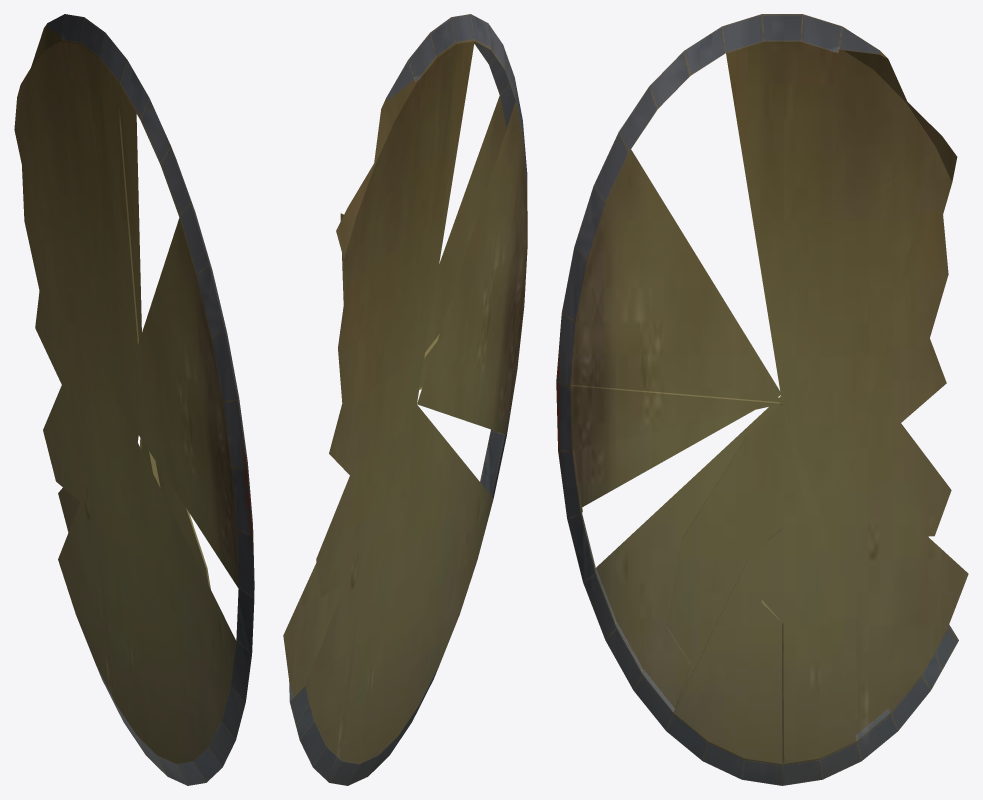
Rendered from mirror.fbx.
3 renders of one model, left to right at view 1: azimuth 30°, elevation 25°; view 2: azimuth 150°, elevation 25°; view 3: azimuth 270°, elevation 25°, orthographic. The views are drawn at different scales.
Visible parts, largest first — view 1: pCylinder1; view 2: pCylinder1; view 3: pCylinder1.
Boxes of the visible parts, <box> form: pCylinder1: <box>14,14,254,785</box>; pCylinder1: <box>283,14,527,785</box>; pCylinder1: <box>556,14,968,785</box>.
Size of the model in its own units: 2.37 by 20.66 by 10.46.
